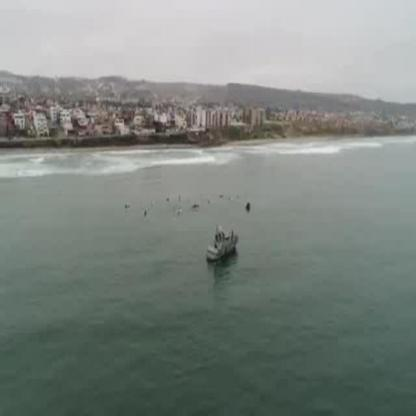Boat: (205, 226, 239, 266)
